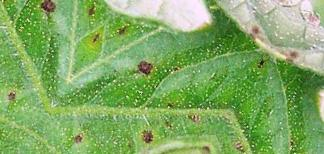Tomato Septoria leaf spot: (15, 0, 282, 154)
